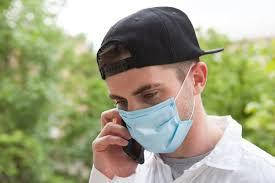cap: (94, 3, 231, 83)
mask: (114, 97, 196, 157)
